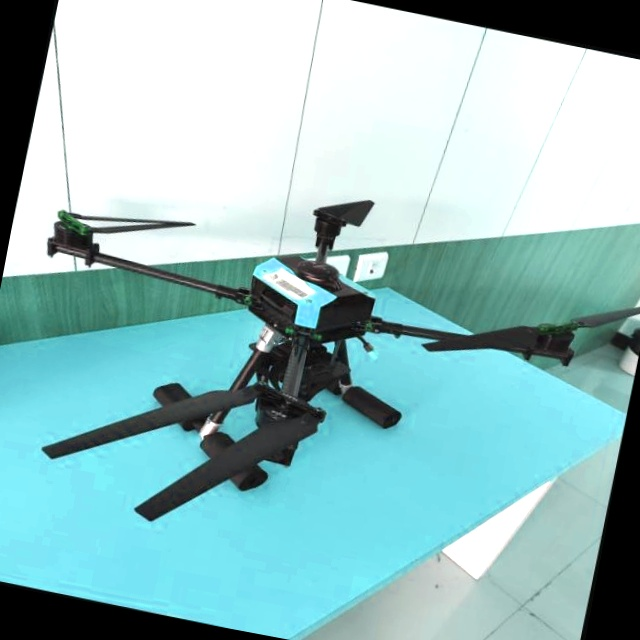quadcopter: (0, 127, 640, 614)
